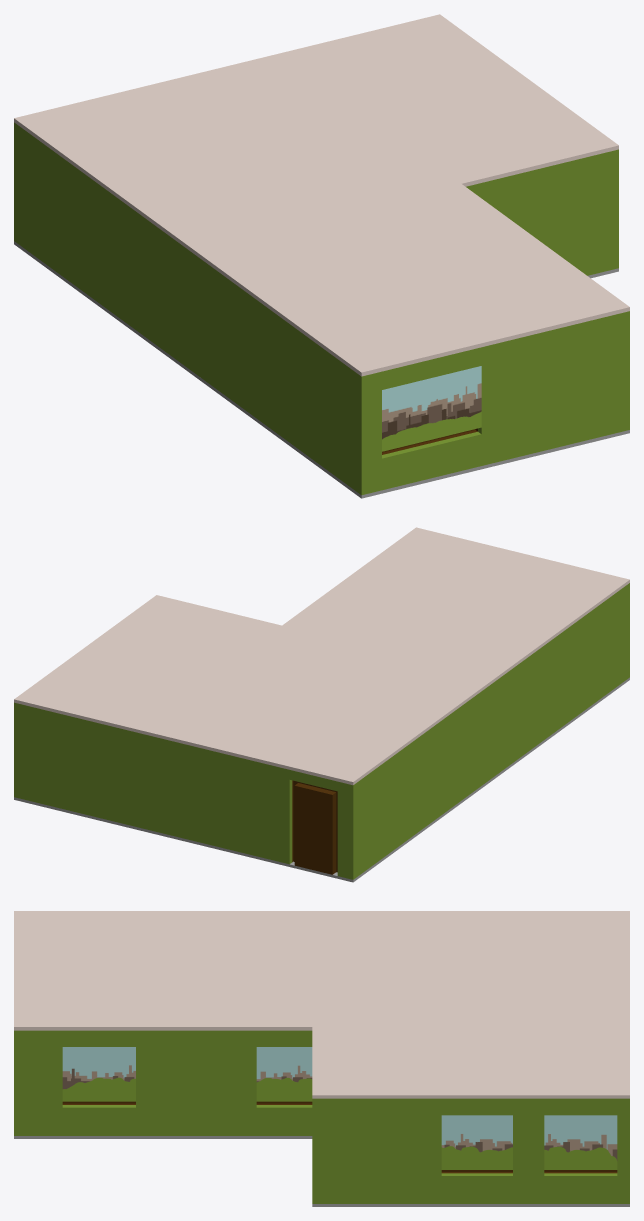
Rendered from apartment_updated.fbx.
3 renders of one model, top to bottom at view 1: azimuth 30°, elevation 25°; view 2: azimuth 150°, elevation 25°; view 3: azimuth 270°, elevation 25°, orthographic. The views are drawn at different scales.
Visible parts, largest first — view 1: _ceiling, _walls, _windows, _floor; view 2: _ceiling, _walls, _wood, _floor; view 3: _ceiling, _walls, _windows, _floor, _wood.
Boxes of the visible parts, bbox=[...] form: _ceiling: bbox=[14, 14, 629, 376]; _walls: bbox=[14, 122, 629, 495]; _windows: bbox=[382, 366, 481, 451]; _floor: bbox=[14, 241, 629, 498]; _ceiling: bbox=[14, 527, 629, 785]; _walls: bbox=[14, 583, 629, 879]; _wood: bbox=[292, 780, 337, 874]; _floor: bbox=[14, 677, 629, 882]; _ceiling: bbox=[14, 911, 629, 1098]; _walls: bbox=[14, 1030, 629, 1203]; _windows: bbox=[62, 1047, 617, 1169]; _floor: bbox=[14, 1136, 629, 1206]; _wood: bbox=[62, 1101, 617, 1173].
Bounding box in the file's own units: 18.02 × 5.1 × 25.46.
